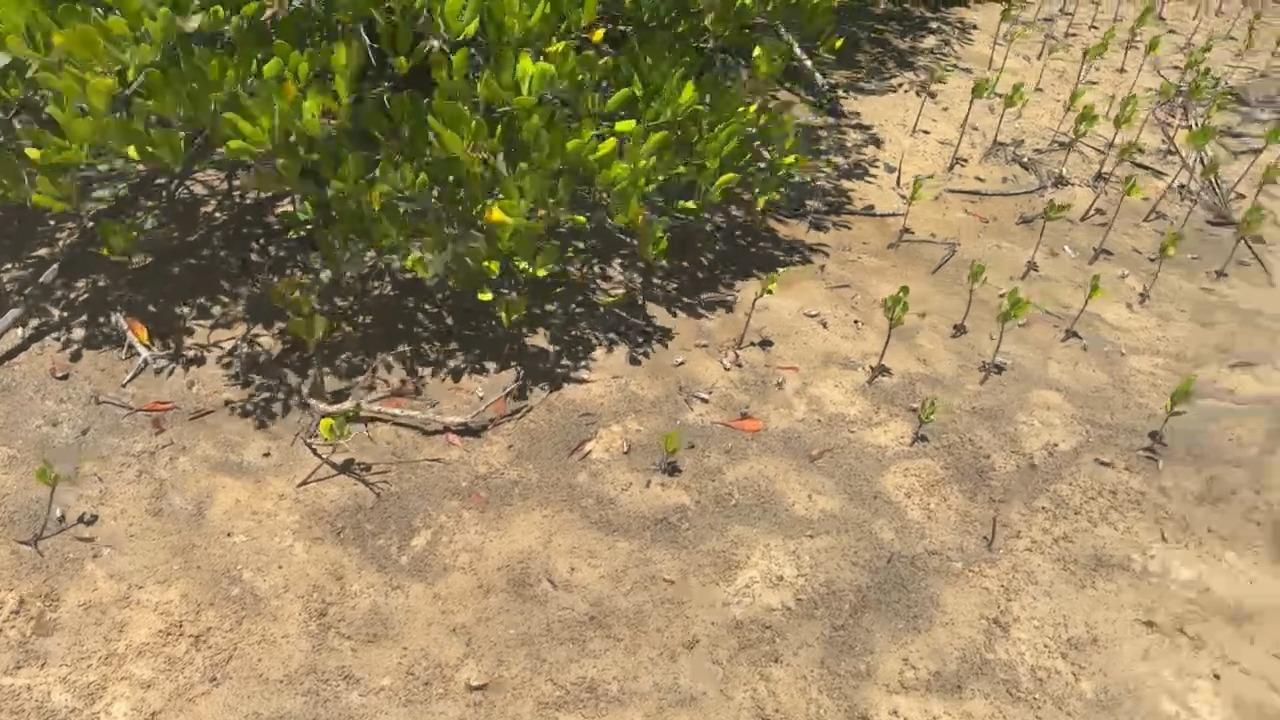Tree: (1141, 124, 1217, 222), (1182, 87, 1235, 202), (1079, 138, 1146, 222), (1087, 175, 1143, 266), (1162, 74, 1217, 159), (947, 76, 993, 174), (1226, 120, 1280, 203), (1213, 201, 1267, 280), (866, 285, 909, 384), (1021, 199, 1072, 280), (296, 417, 352, 489), (989, 286, 1033, 370), (1176, 153, 1222, 230), (1151, 374, 1197, 449), (1097, 93, 1138, 177), (1139, 230, 1185, 304), (950, 259, 988, 337), (737, 274, 777, 348), (1059, 102, 1099, 175), (987, 26, 1024, 99), (1181, 126, 1217, 201), (1134, 80, 1176, 144), (1075, 26, 1116, 91), (988, 2, 1026, 71), (1127, 34, 1165, 97), (1120, 6, 1155, 74), (1048, 86, 1086, 146), (1033, 39, 1075, 91), (993, 81, 1027, 145), (911, 67, 943, 134), (35, 459, 59, 538), (898, 173, 925, 241), (1069, 274, 1101, 330), (1177, 41, 1214, 89), (1252, 152, 1280, 201), (657, 430, 682, 473), (1223, 5, 1246, 42), (915, 397, 937, 435), (1180, 19, 1202, 50), (931, 250, 957, 275), (1063, 0, 1079, 39), (1088, 0, 1099, 32), (987, 515, 997, 546), (1104, 92, 1116, 117), (1037, 33, 1048, 60), (1033, 0, 1045, 23), (897, 152, 904, 188), (1113, 0, 1120, 31), (1158, 0, 1166, 21), (1191, 4, 1200, 21), (1215, 0, 1222, 17), (1060, 0, 1066, 15), (1205, 0, 1209, 16)
